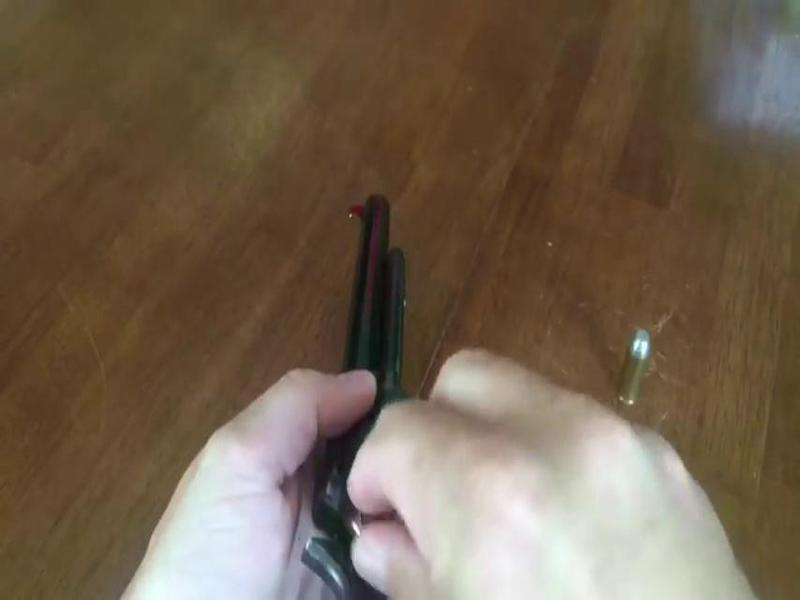Revolver: (277, 174, 466, 586)
